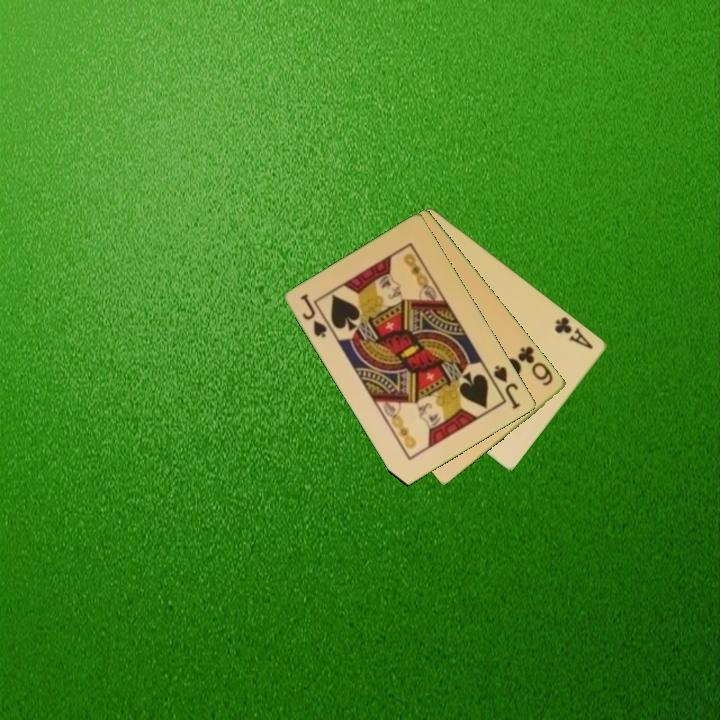6c: (514, 343, 556, 389)
Ac: (551, 313, 596, 352)
Js: (490, 362, 524, 412), (297, 290, 330, 341)
